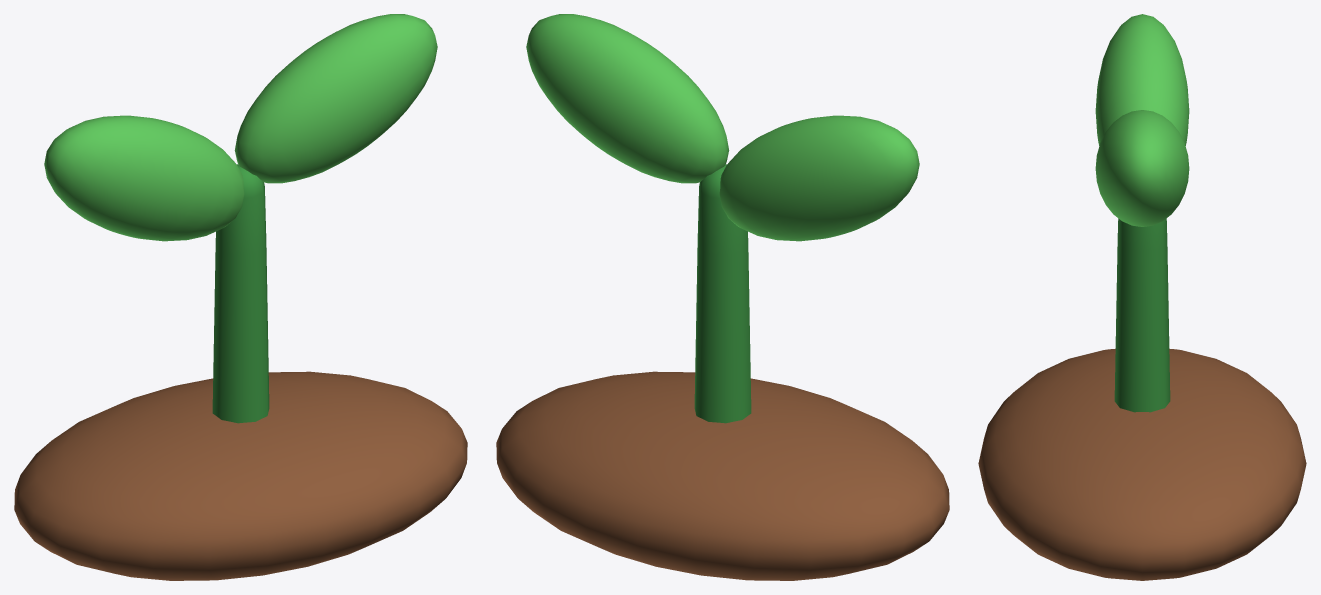
The model's file is icon_plant.glb.
3 renders of one model, left to right at view 1: azimuth 30°, elevation 25°; view 2: azimuth 150°, elevation 25°; view 3: azimuth 270°, elevation 25°, orthographic. The views are drawn at different scales.
Parts seen in each view (by area): view 1: icon_plant; view 2: icon_plant; view 3: icon_plant.
Part boxes in pixels (left/top/right/bottom): icon_plant: left=14, top=14, right=467, bottom=580; icon_plant: left=496, top=14, right=949, bottom=580; icon_plant: left=978, top=14, right=1306, bottom=580.
Size of the model in its own units: 0.4 by 0.4418 by 0.28.
